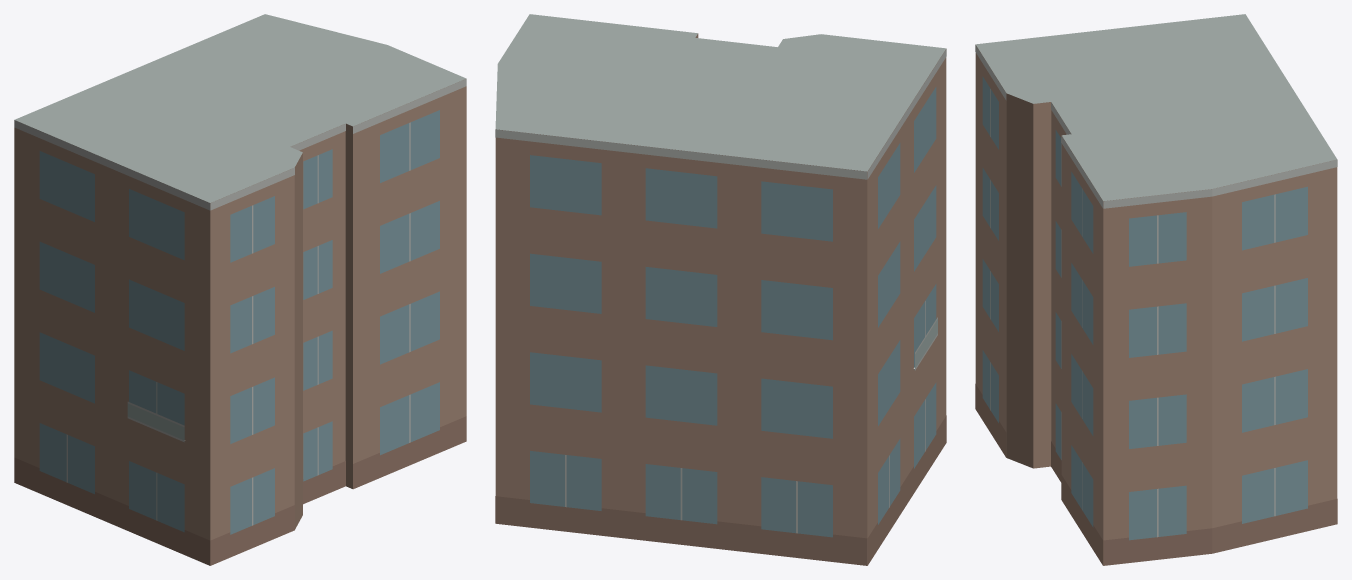
The model's file is survey-upis-32551967.glb.
3 renders of one model, left to right at view 1: azimuth 30°, elevation 25°; view 2: azimuth 150°, elevation 25°; view 3: azimuth 270°, elevation 25°, orthographic. The views are drawn at different scales.
Parts seen in each view (by area): view 1: survey-upis-32551967.tmp; view 2: survey-upis-32551967.tmp; view 3: survey-upis-32551967.tmp.
Boxes of the visible parts, box(x1,y1,x2,y2) form: survey-upis-32551967.tmp: box(14, 14, 466, 565); survey-upis-32551967.tmp: box(495, 14, 946, 565); survey-upis-32551967.tmp: box(975, 14, 1337, 565).
Size of the model in its own units: 12.89 by 11.7 by 10.54.
